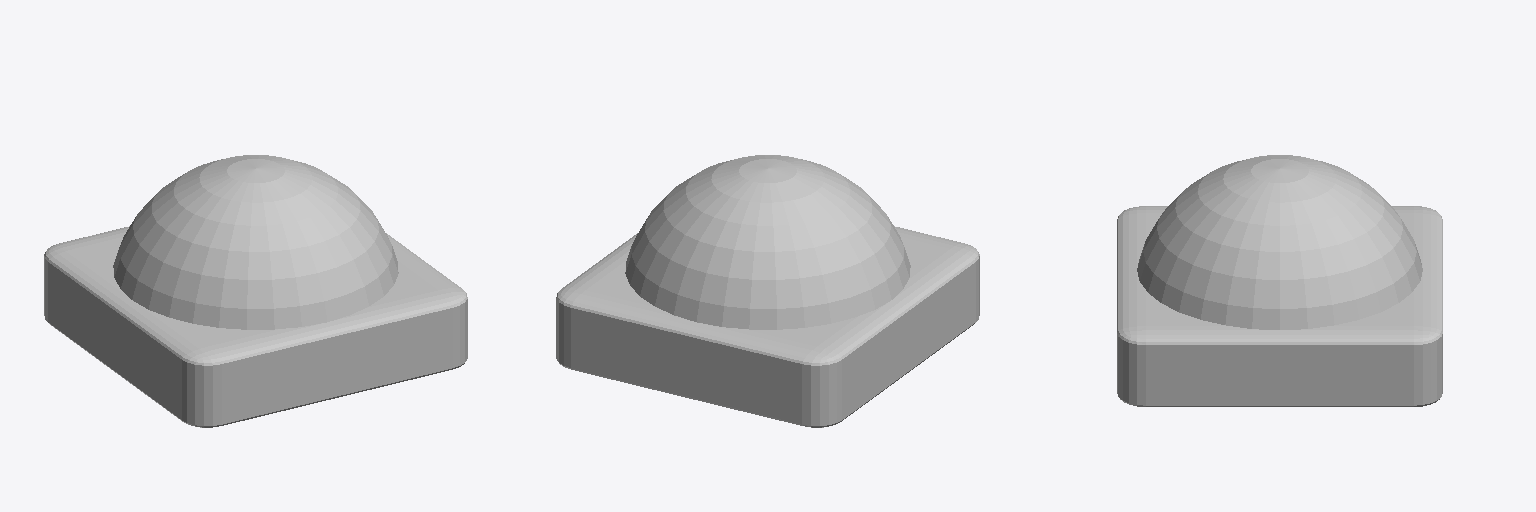
File: Knop.obj
3 views of the same model, side by side, from view 1: azimuth 30°, elevation 25°; view 2: azimuth 150°, elevation 25°; view 3: azimuth 270°, elevation 25° (orthographic).
Visible parts, largest first — view 1: Cube, Sphere; view 2: Cube, Sphere; view 3: Sphere, Cube.
Boxes of the visible parts, x1,y1,x2,y2 form: Cube: [44, 226, 467, 427]; Sphere: [113, 155, 398, 329]; Cube: [556, 226, 979, 427]; Sphere: [625, 155, 910, 329]; Sphere: [1137, 155, 1422, 329]; Cube: [1117, 206, 1442, 406].
Size of the model in its own units: 2.2 by 1.3 by 2.2.